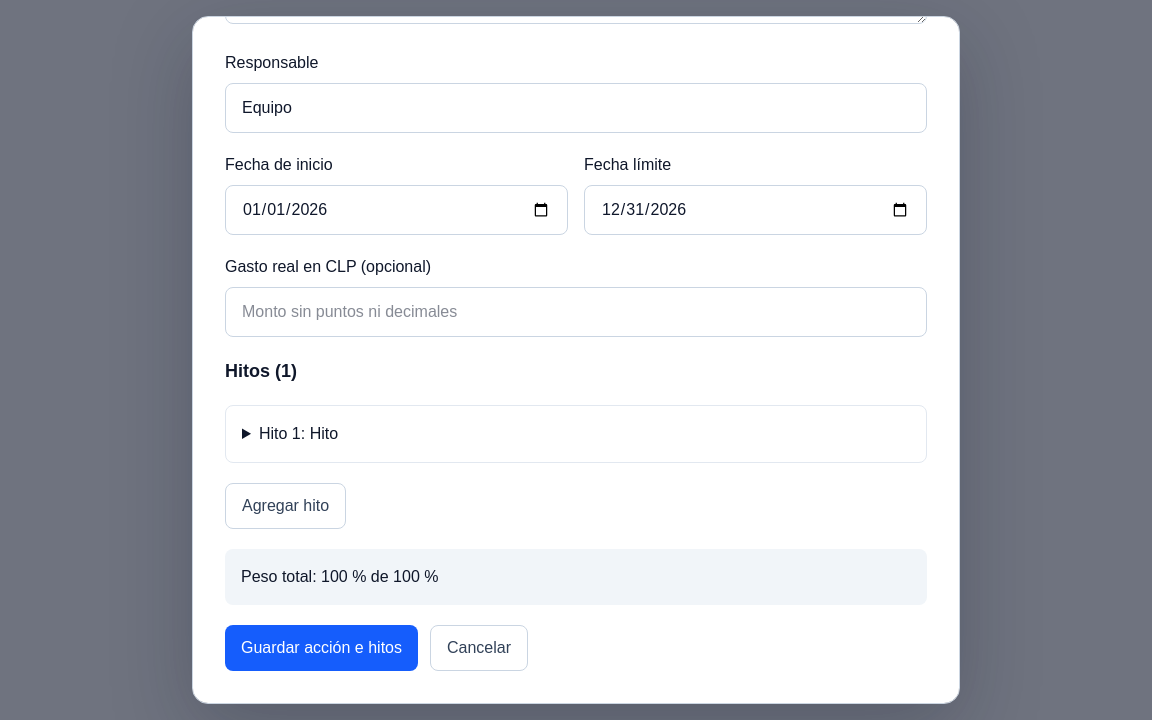
action dialog keeps server errors and draft inside, preserves the structural payload
(page scrolled)
What coordinates should you click on to do the following:
click the button "Guardar acción e hitos"
I would click on:
 (322, 648)
Its box is [225,625,418,671].
(page scrolled)
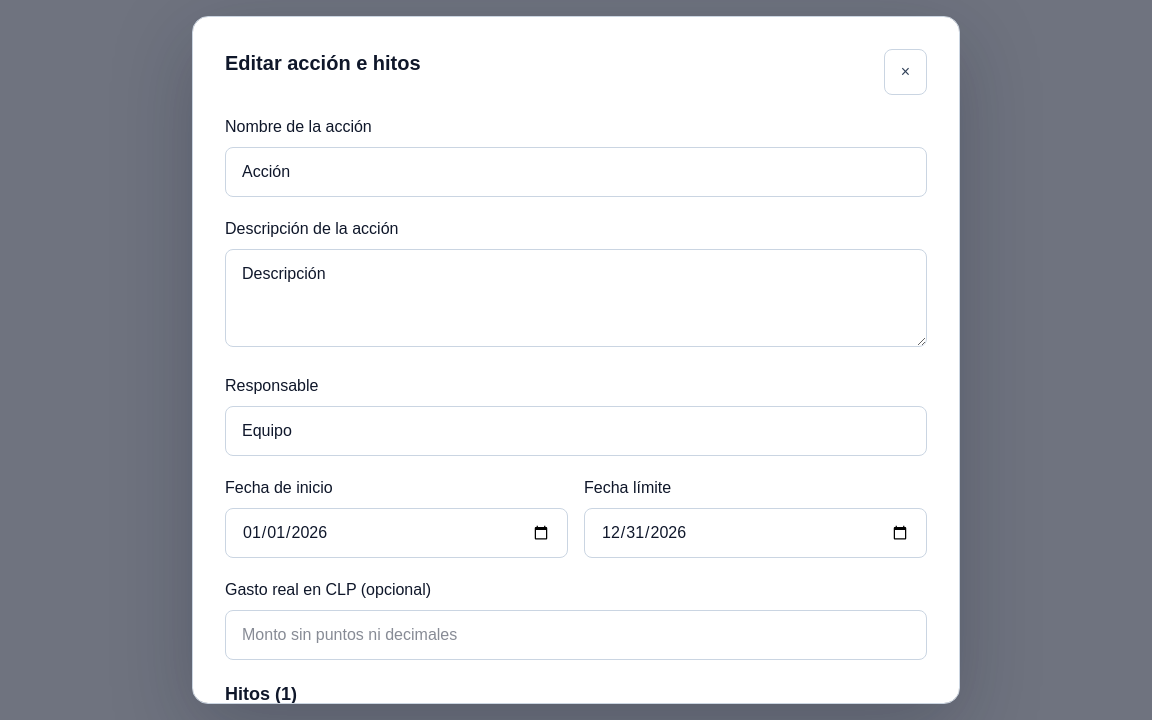
Now the field labelled "Nombre de la acción" holds "Acción", box [225,147,927,197]
